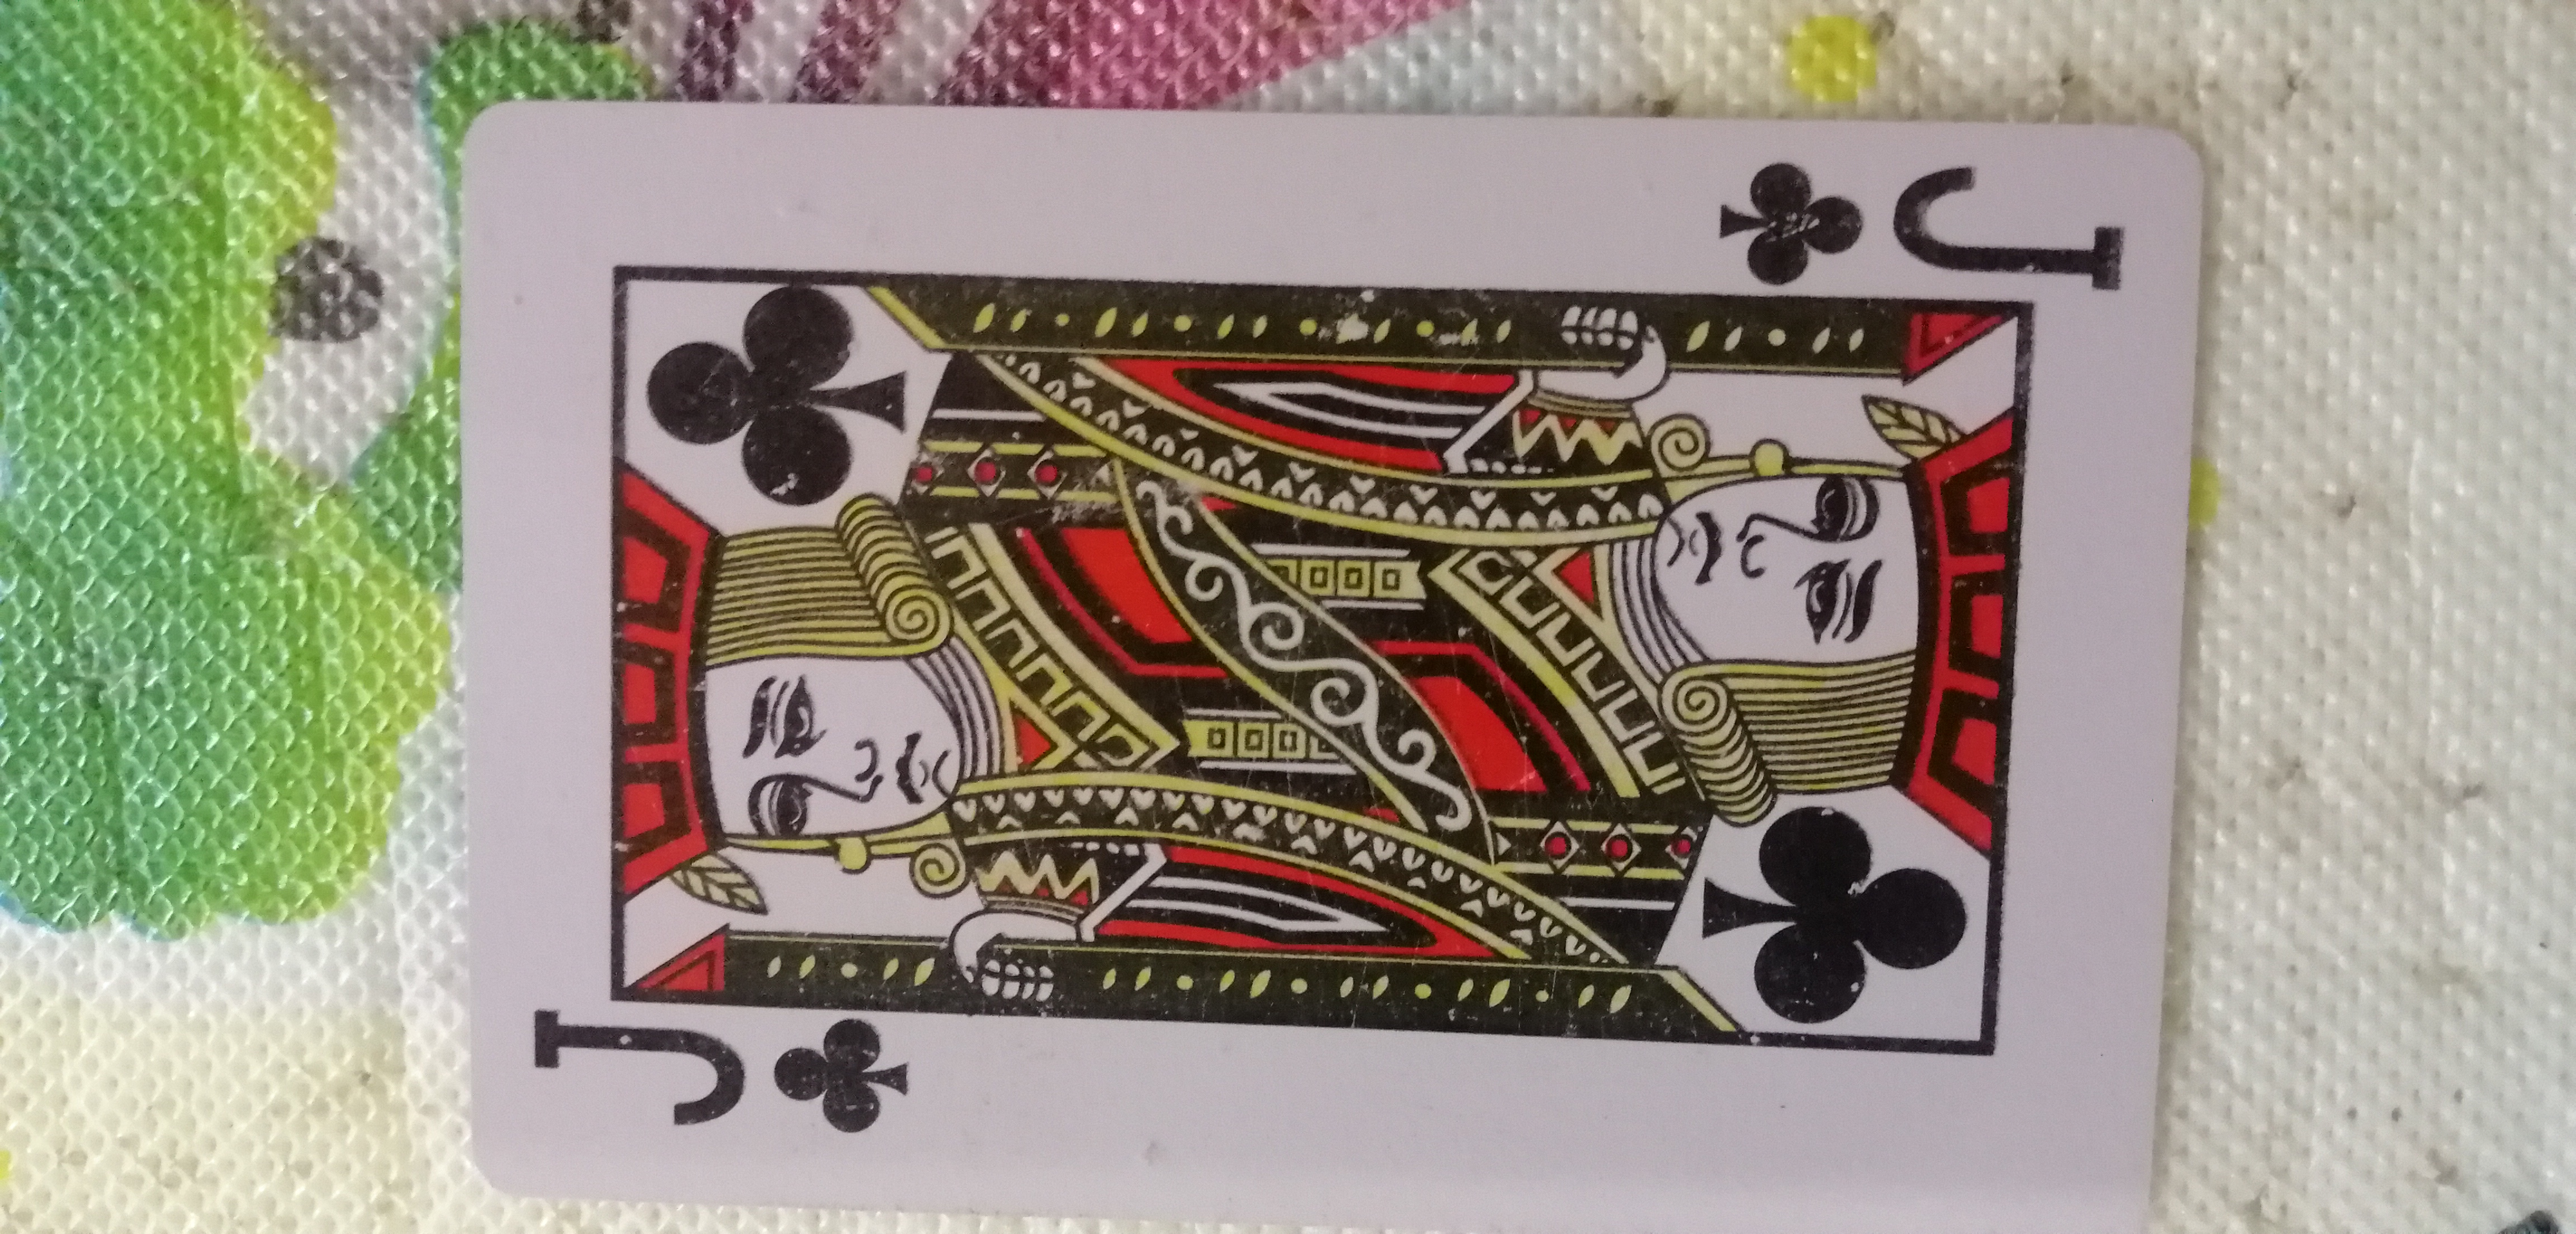jack: (396, 71, 2215, 1219)
